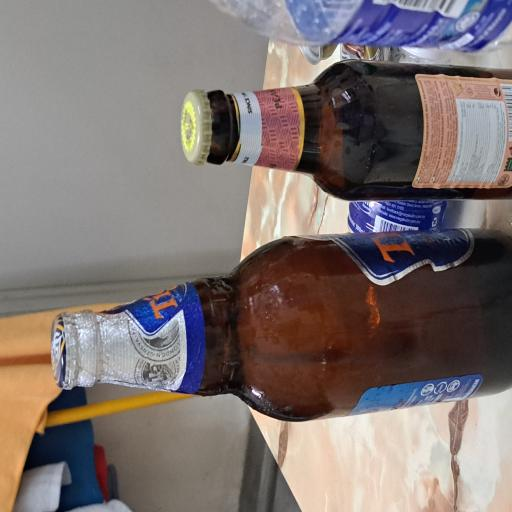glass bottle: (69, 66, 212, 512), (231, 239, 339, 512)
plastic bottle: (347, 283, 384, 512)
